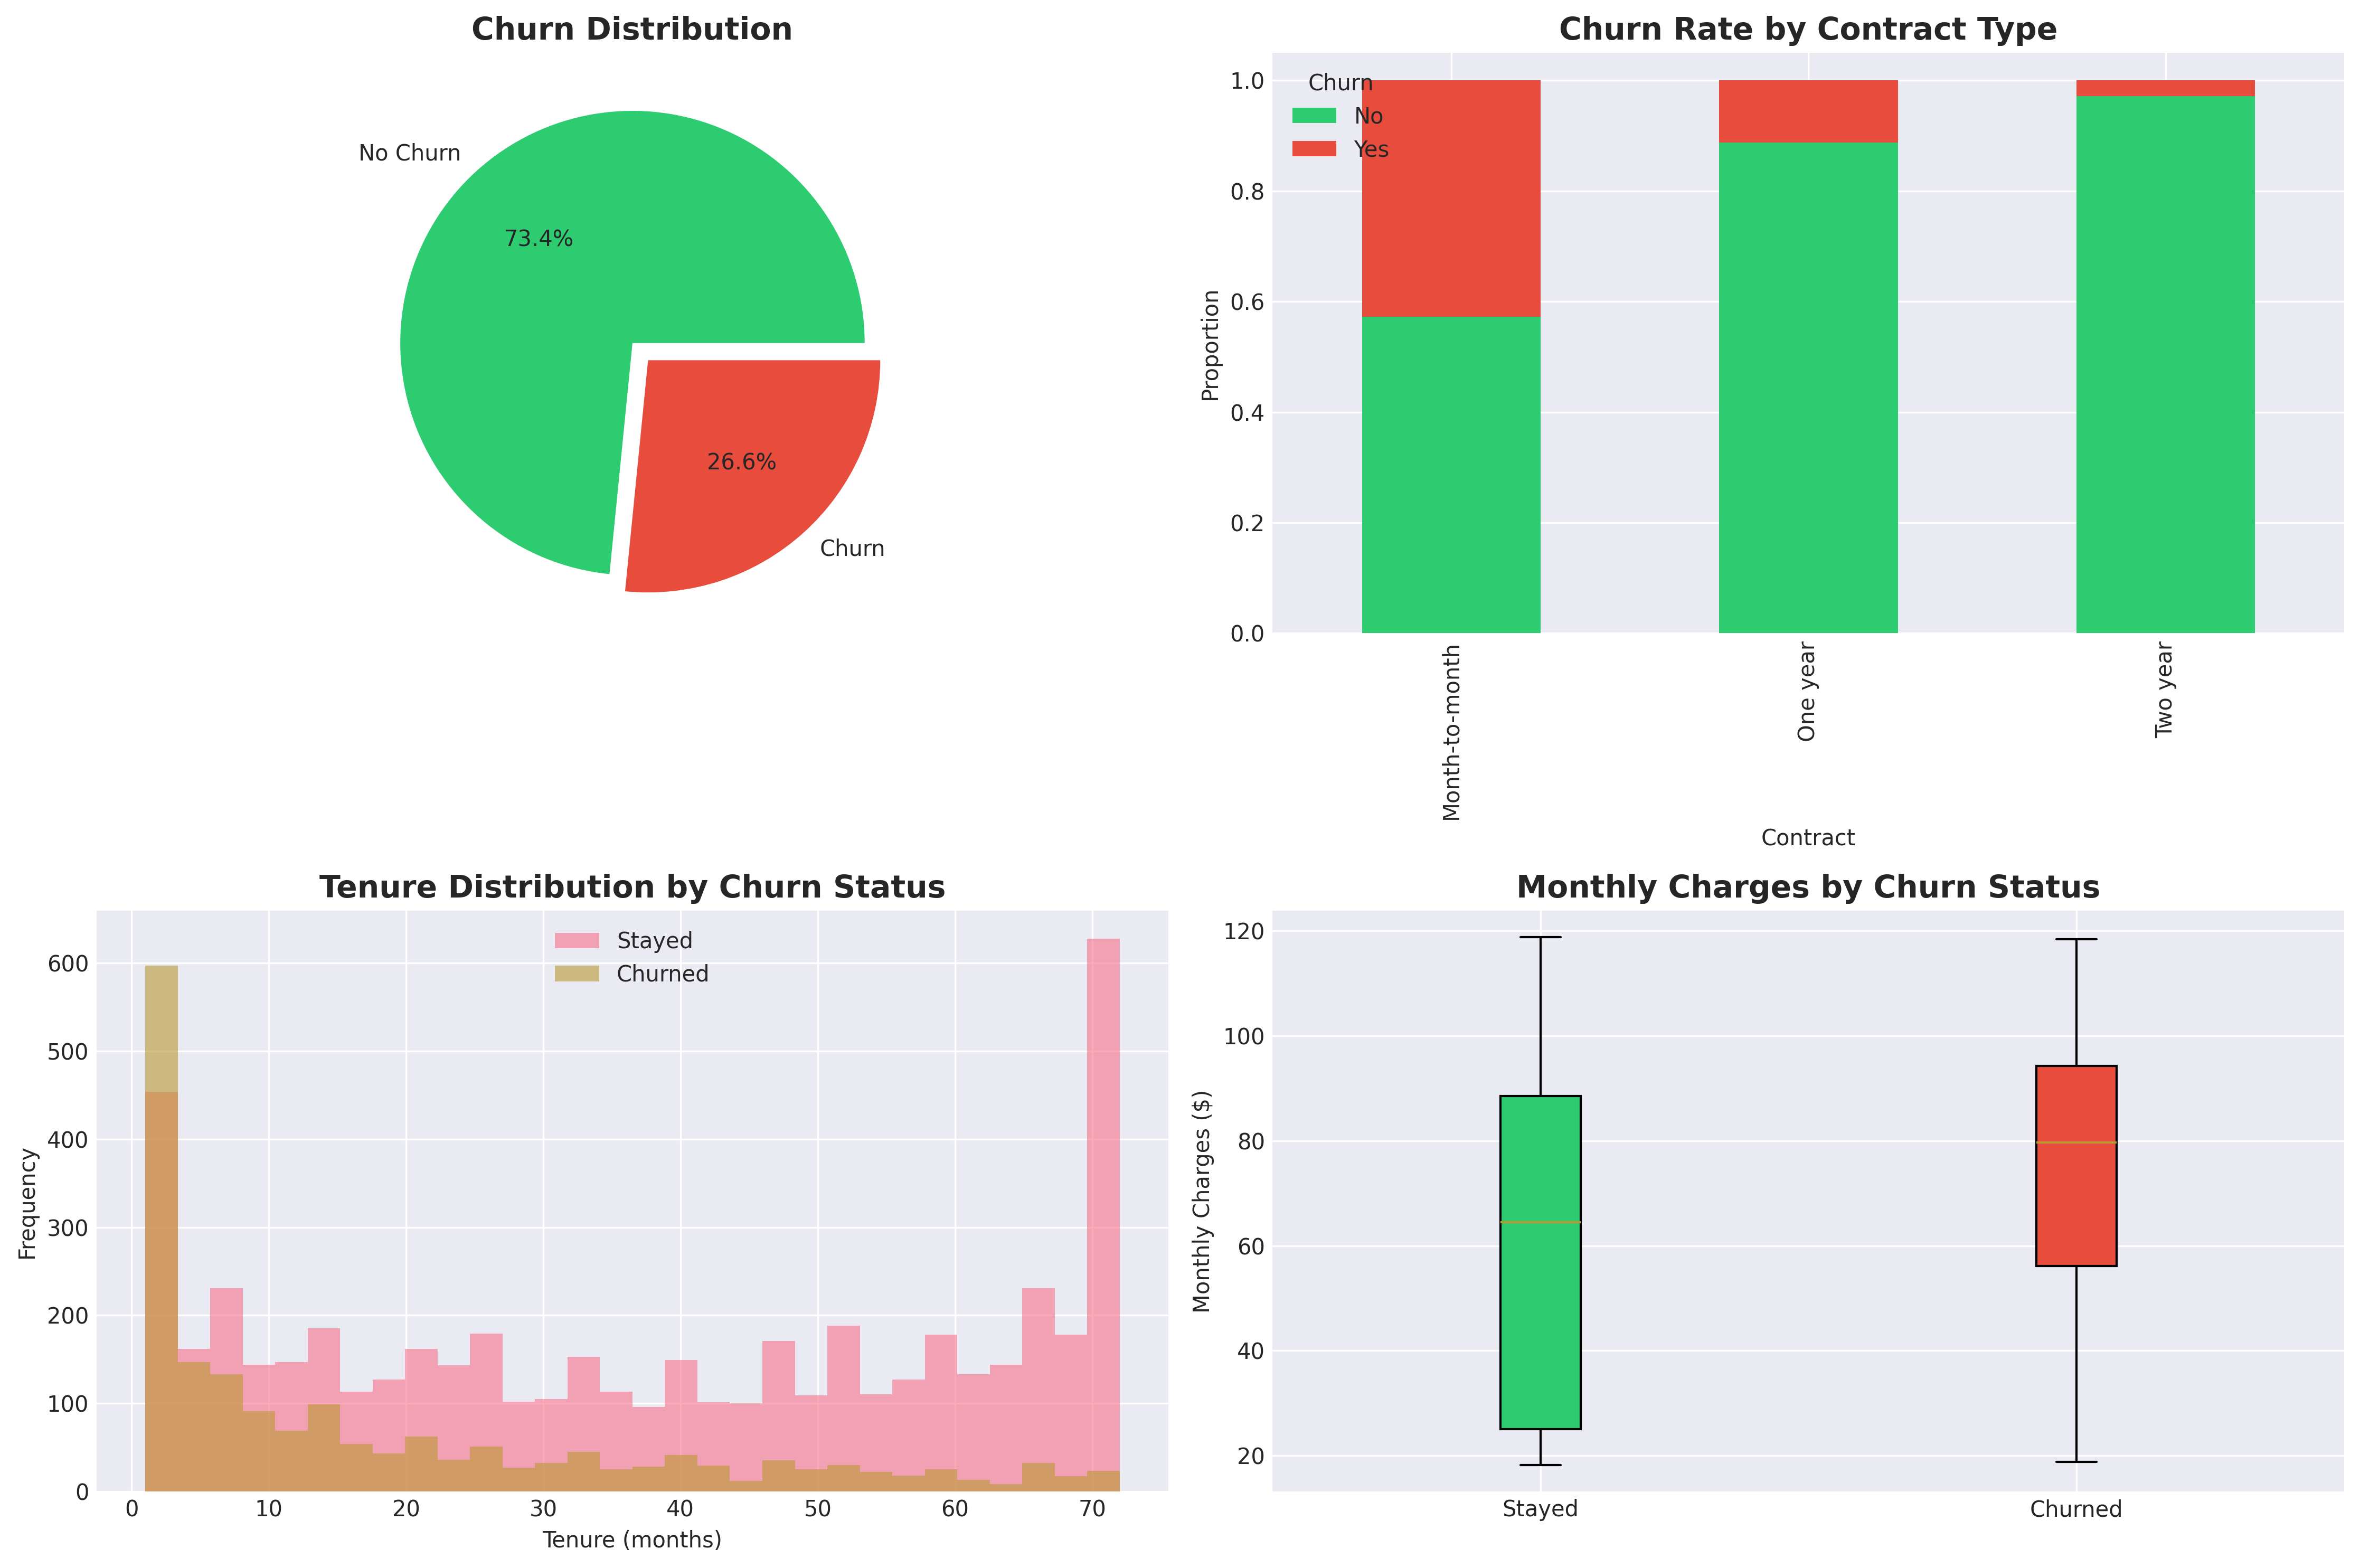

The dashboard page shown, as its layout file describes it:
{"tool":"tableau","page":{"name":"Dashboard 1","canvas":[1000,1000],"units":"permille","ordinal":0},"visuals":[{"type":"title","box":[4.8,8.8,990.4,60.8]},{"type":"filter","title":"Sheet 1","param":"[federated.0g3ss2r17w7v8y11tkp0v0ijn3h9].[none:SeniorCitizen:qk]","box":[9,85.2,202,76.3]},{"type":"worksheet","title":"Sheet 1","mark":"Automatic","box":[301.3,111.7,326.4,199.1]},{"type":"filter","title":"Sheet 4","param":"[federated.0g3ss2r17w7v8y11tkp0v0ijn3h9].[Action (Gender)]","box":[66.3,161.5,90.9,104]},{"type":"worksheet","title":"Sheet 2","mark":"Automatic","rows":["Churn_Num"],"cols":["Contract"],"box":[613.3,175.9,384.3,824.1]},{"type":"worksheet","title":"Sheet 3","mark":"Automatic","rows":["Churn_Num"],"cols":["tenure"],"box":[1.2,263.3,368.2,736.7]},{"type":"worksheet","title":"Sheet 4","mark":"Automatic","rows":["InternetService"],"cols":["OnlineSecurity"],"box":[286.9,376.1,316.2,449.1]},{"type":"legend","title":"Sheet 3","param":"[federated.0g3ss2r17w7v8y11tkp0v0ijn3h9].[none:InternetService:nk]","box":[368.2,839.6,85.5,115]}]}

Visuals, with their boxes on the dashboard's canvas, which has no fixed pixel size, in thousandths of its width and height (x1, y1, x2, y2). These are canvas units, not pixel positions in the 2360x1568 screenshot, which may show the page scaled, cropped or inside an application window:
title: <region>5, 9, 995, 70</region>
"Sheet 1" filter: <region>9, 85, 211, 162</region>
"Sheet 1" worksheet: <region>301, 112, 628, 311</region>
"Sheet 4" filter: <region>66, 162, 157, 266</region>
"Sheet 2" worksheet: <region>613, 176, 998, 1000</region>
"Sheet 3" worksheet: <region>1, 263, 369, 1000</region>
"Sheet 4" worksheet: <region>287, 376, 603, 825</region>
"Sheet 3" legend: <region>368, 840, 454, 955</region>
